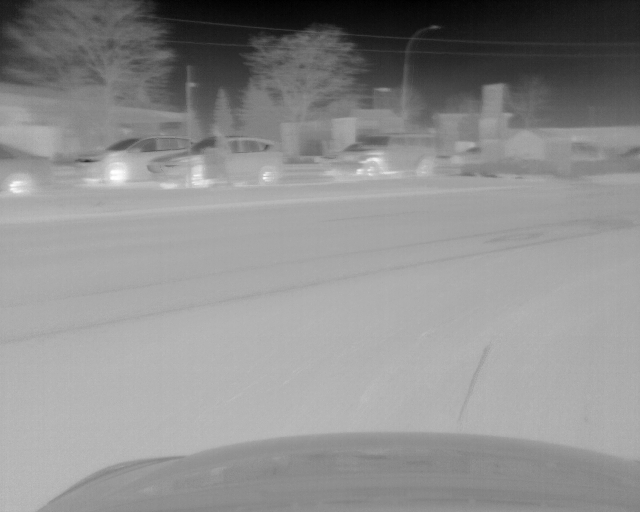car: (146, 137, 283, 187), (73, 133, 190, 184), (326, 133, 429, 179), (1, 143, 52, 195)
people: (203, 125, 236, 191)
